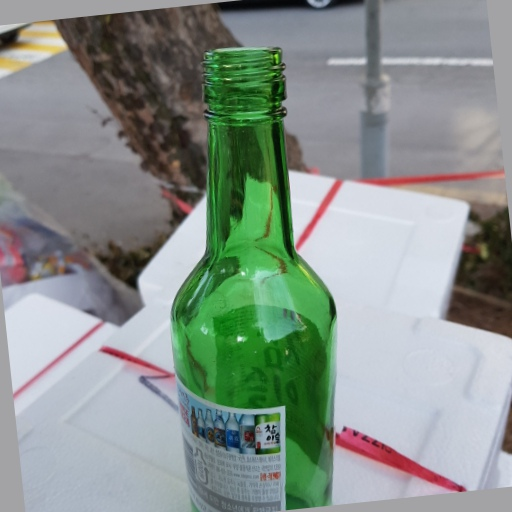Glass_0: (176, 46, 340, 512)
